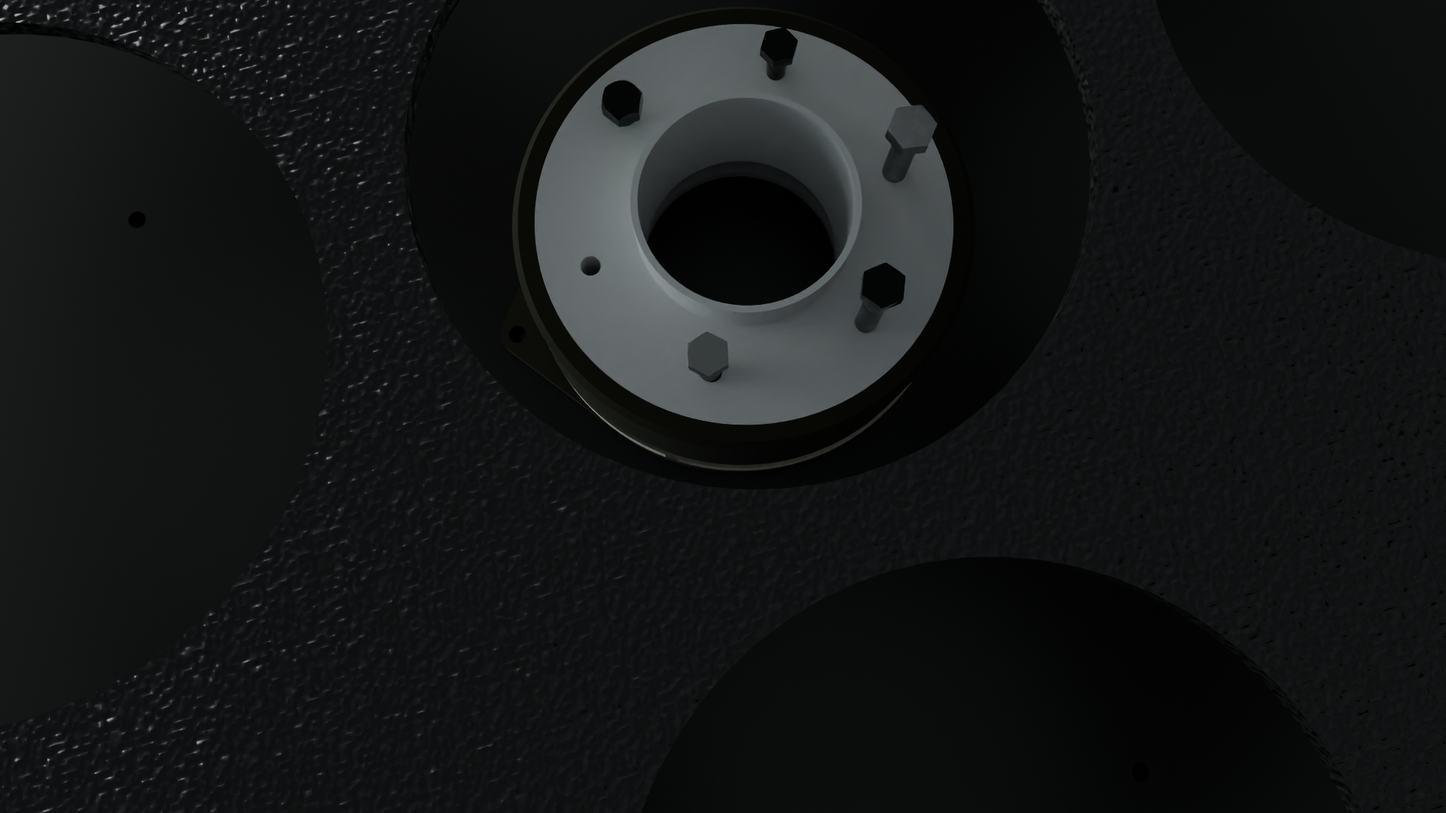bolt: (887, 105, 938, 149), (862, 263, 905, 309), (688, 332, 728, 377), (601, 80, 642, 120), (761, 28, 798, 62)
